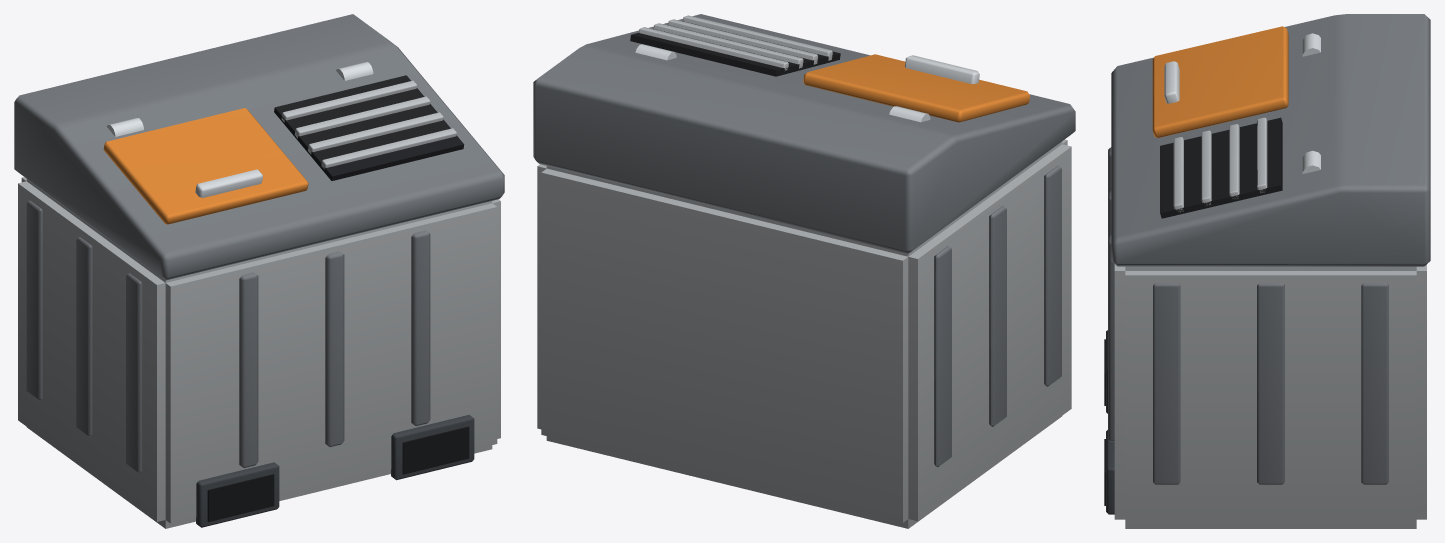
File: SM_GreaseBin_Outdoor_01.glb
The picture shows the model from 3 angles, left to right: view 1: azimuth 30°, elevation 25°; view 2: azimuth 150°, elevation 25°; view 3: azimuth 270°, elevation 25°; orthographic projection. The views are drawn at different scales.
Parts seen in each view (by area): view 1: SM_GreaseBin_Outdoor_01; view 2: SM_GreaseBin_Outdoor_01; view 3: SM_GreaseBin_Outdoor_01.
Boxes of the visible parts, bbox=[...] form: SM_GreaseBin_Outdoor_01: bbox=[14, 14, 504, 528]; SM_GreaseBin_Outdoor_01: bbox=[533, 14, 1075, 528]; SM_GreaseBin_Outdoor_01: bbox=[1104, 14, 1430, 528].
Size of the model in its own units: 1.24 by 1.1 by 0.94.
Materials: 1 (1 with a texture image).
